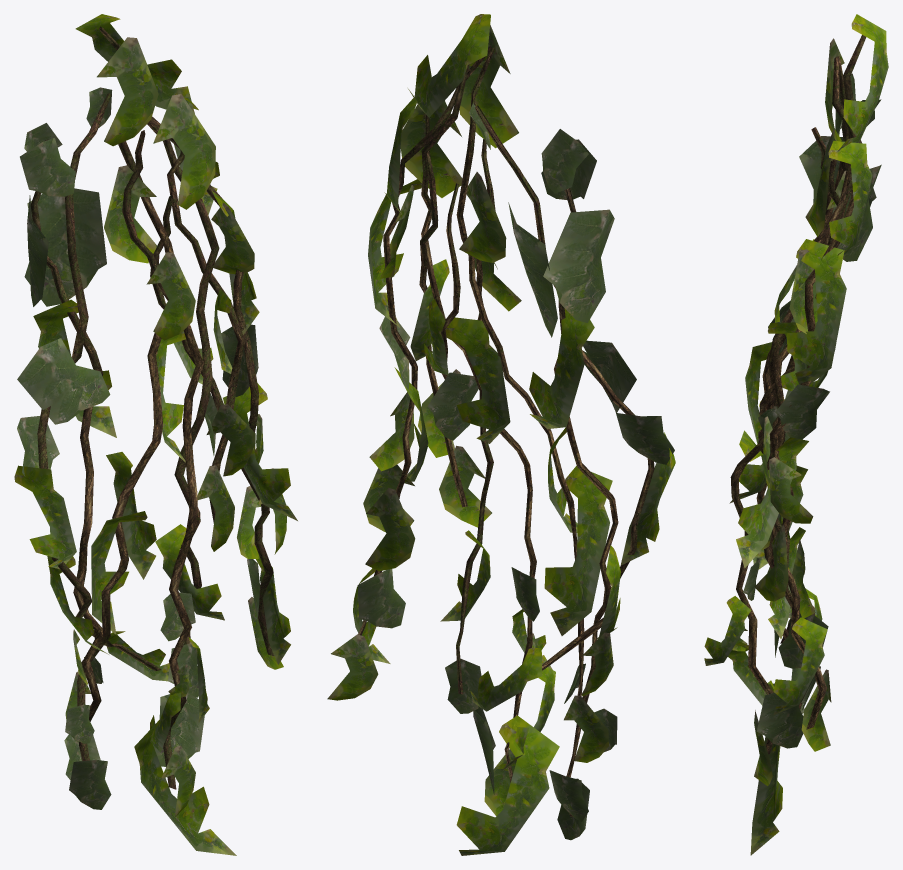
Rendered from sm10_041_debrisw01a.fbx.
3 renders of one model, left to right at view 1: azimuth 30°, elevation 25°; view 2: azimuth 150°, elevation 25°; view 3: azimuth 270°, elevation 25°, orthographic. The views are drawn at different scales.
Parts seen in each view (by area): view 1: LOD_1_Group_0_Sub_1__sm45_020_Ivy01A_B_Mat__Env_AlphaTest, LOD_1_Group_0_Sub_2__sm45_020_Ivy01A_A_Mat; view 2: LOD_1_Group_0_Sub_1__sm45_020_Ivy01A_B_Mat__Env_AlphaTest, LOD_1_Group_0_Sub_2__sm45_020_Ivy01A_A_Mat; view 3: LOD_1_Group_0_Sub_1__sm45_020_Ivy01A_B_Mat__Env_AlphaTest, LOD_1_Group_0_Sub_2__sm45_020_Ivy01A_A_Mat.
Boxes of the visible parts, left/top/right/bottom form: LOD_1_Group_0_Sub_1__sm45_020_Ivy01A_B_Mat__Env_AlphaTest: left=14, top=14, right=297, bottom=855; LOD_1_Group_0_Sub_2__sm45_020_Ivy01A_A_Mat: left=30, top=26, right=274, bottom=789; LOD_1_Group_0_Sub_1__sm45_020_Ivy01A_B_Mat__Env_AlphaTest: left=327, top=14, right=675, bottom=855; LOD_1_Group_0_Sub_2__sm45_020_Ivy01A_A_Mat: left=358, top=46, right=654, bottom=816; LOD_1_Group_0_Sub_1__sm45_020_Ivy01A_B_Mat__Env_AlphaTest: left=704, top=14, right=888, bottom=855; LOD_1_Group_0_Sub_2__sm45_020_Ivy01A_A_Mat: left=730, top=35, right=866, bottom=754.
Bounding box in the file's own units: 0.6584 × 1.8 × 0.3753.
